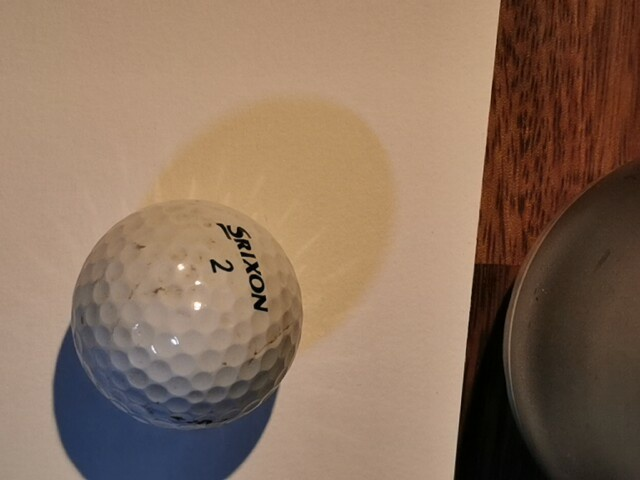Ball: (71, 199, 304, 430)
Srixon: (216, 223, 270, 312)
